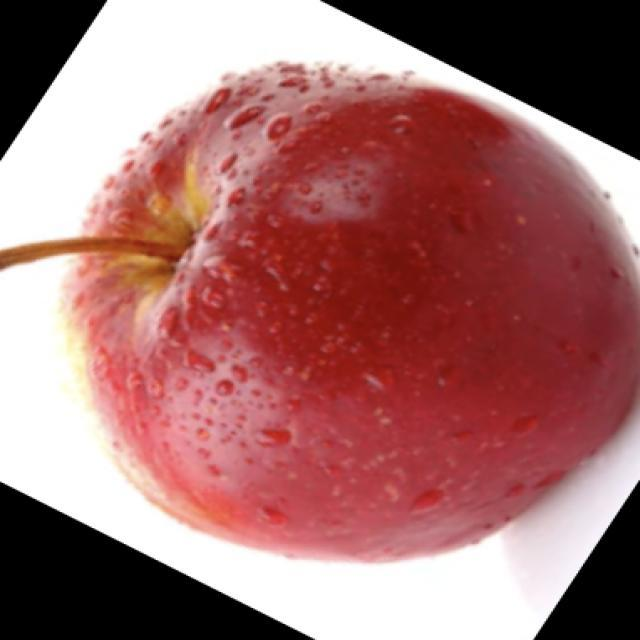Fresh Apple: (60, 63, 640, 552)
